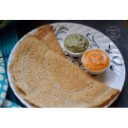dosa: (10, 26, 119, 108)
